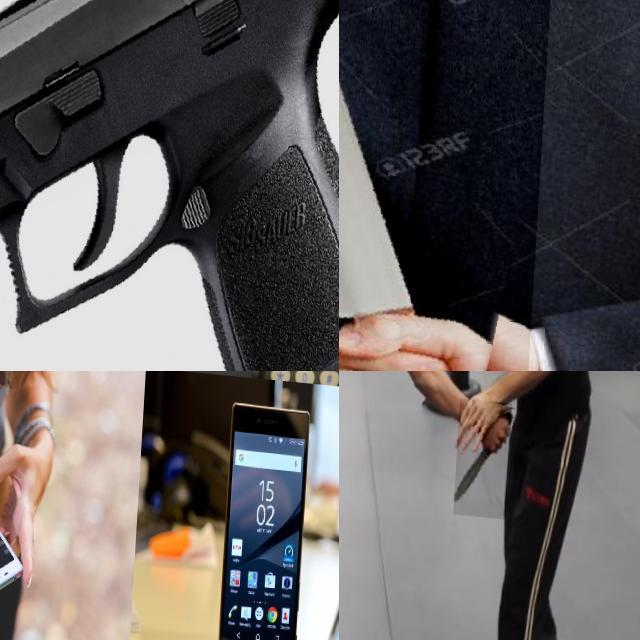-: (339, 0, 552, 371), (459, 390, 517, 510)
gun-knife-thesis - v11 Yolov5 augmented: (0, 0, 339, 371)
